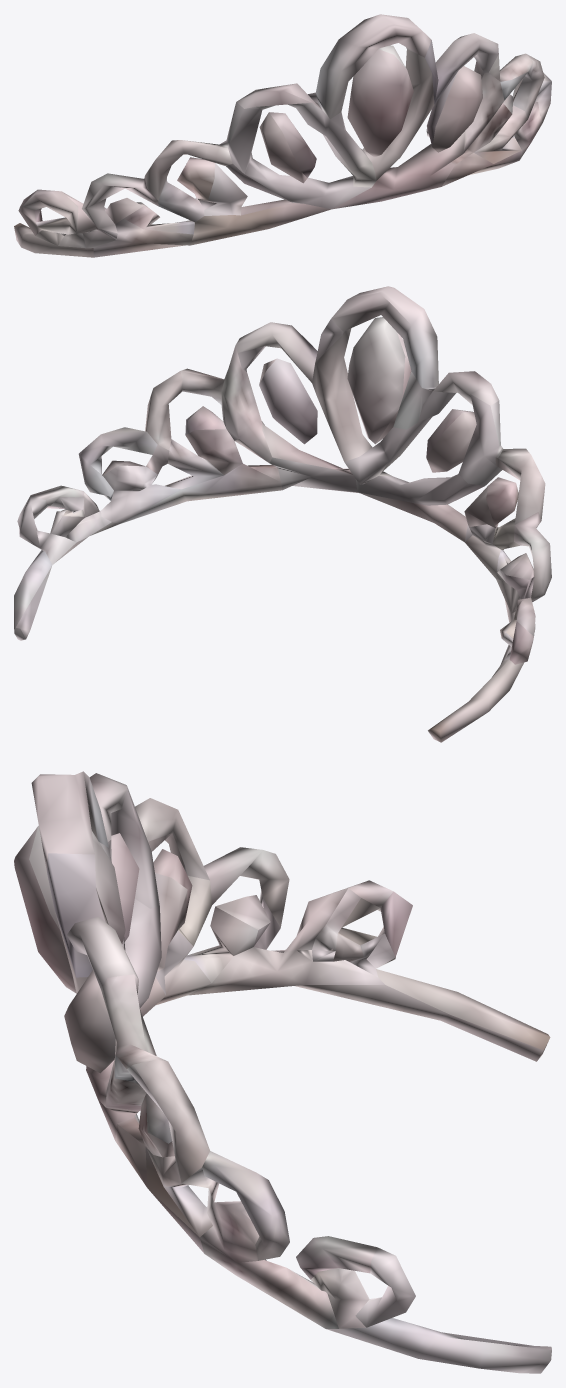
3 views of the same model, one above another, from view 1: azimuth 30°, elevation 25°; view 2: azimuth 150°, elevation 25°; view 3: azimuth 270°, elevation 25° (orthographic). The views are drawn at different scales.
Parts seen in each view (by area): view 1: Silver-Tiara-12; view 2: Silver-Tiara-12; view 3: Silver-Tiara-12.
Part boxes in pixels (box(x1,y1,x2,y2)): Silver-Tiara-12: box(14, 14, 551, 257); Silver-Tiara-12: box(14, 286, 551, 742); Silver-Tiara-12: box(14, 771, 551, 1373).
Bounding box in the file's own units: 0.3166 × 0.1691 × 0.1865.
Materials: 1 (1 with a texture image).
